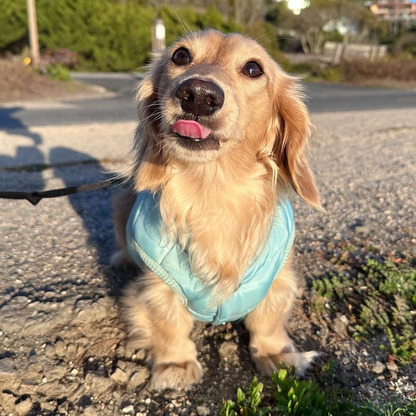dachshund: (100, 31, 355, 388)
